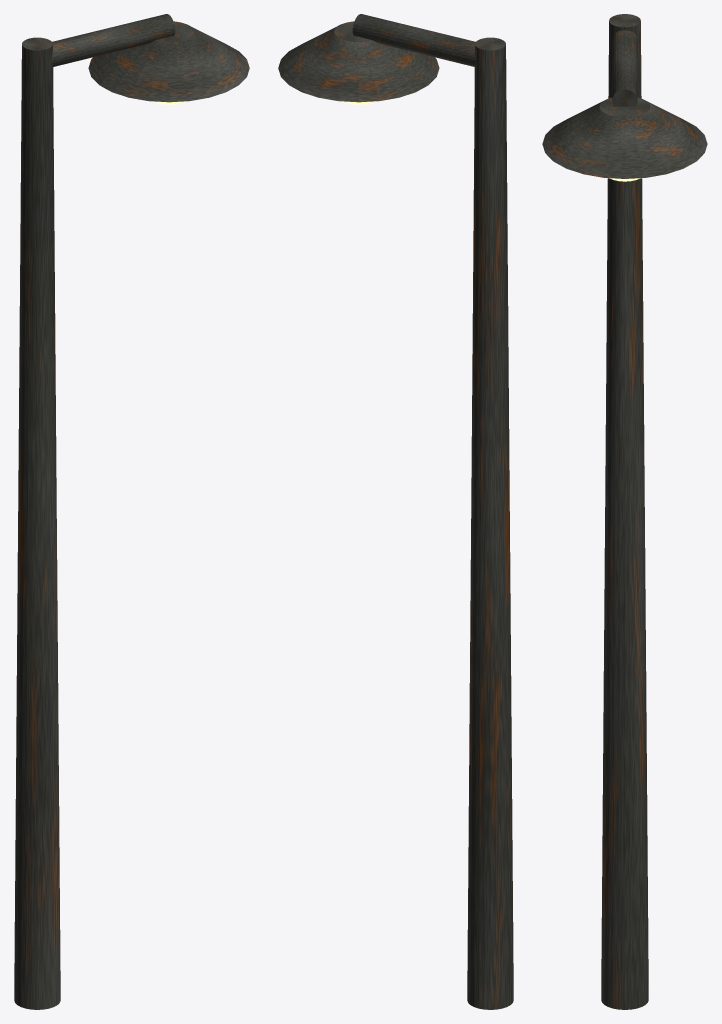
Rendered from lampu_peron.glb.
The picture shows the model from 3 angles, left to right: view 1: azimuth 30°, elevation 25°; view 2: azimuth 150°, elevation 25°; view 3: azimuth 270°, elevation 25°; orthographic projection. The views are drawn at different scales.
Visible parts, largest first — view 1: Tiang lampu, Topi lampu, Lengan; view 2: Tiang lampu, Topi lampu, Lengan; view 3: Tiang lampu, Topi lampu, Lengan.
Part boxes in pixels (x1,y1,x2,y2): Tiang lampu: (14,37,60,1009); Topi lampu: (88,21,249,102); Lengan: (51,14,175,66); Tiang lampu: (467,37,513,1009); Topi lampu: (278,21,439,102); Lengan: (352,14,476,66); Tiang lampu: (601,14,648,1009); Topi lampu: (542,97,707,178); Lengan: (612,30,637,106).
Bounding box in the file's own units: 0.825 × 3.4 × 0.52.
Materials: 2 (1 with a texture image).
